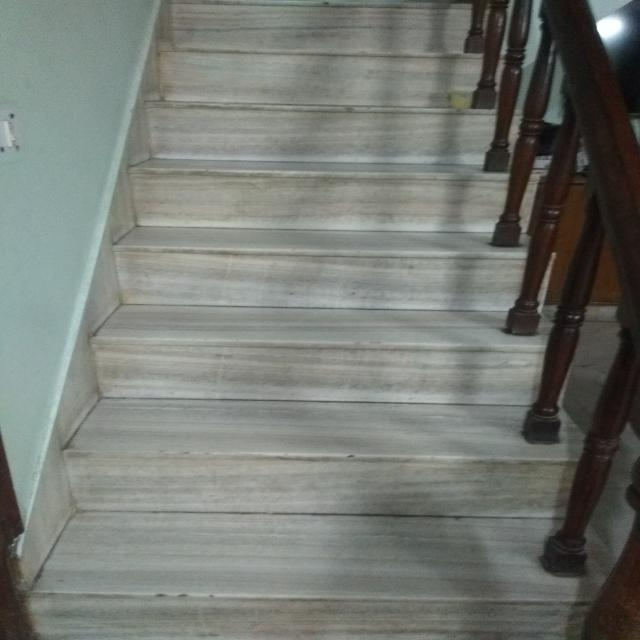Stairs: (102, 236, 504, 579)
